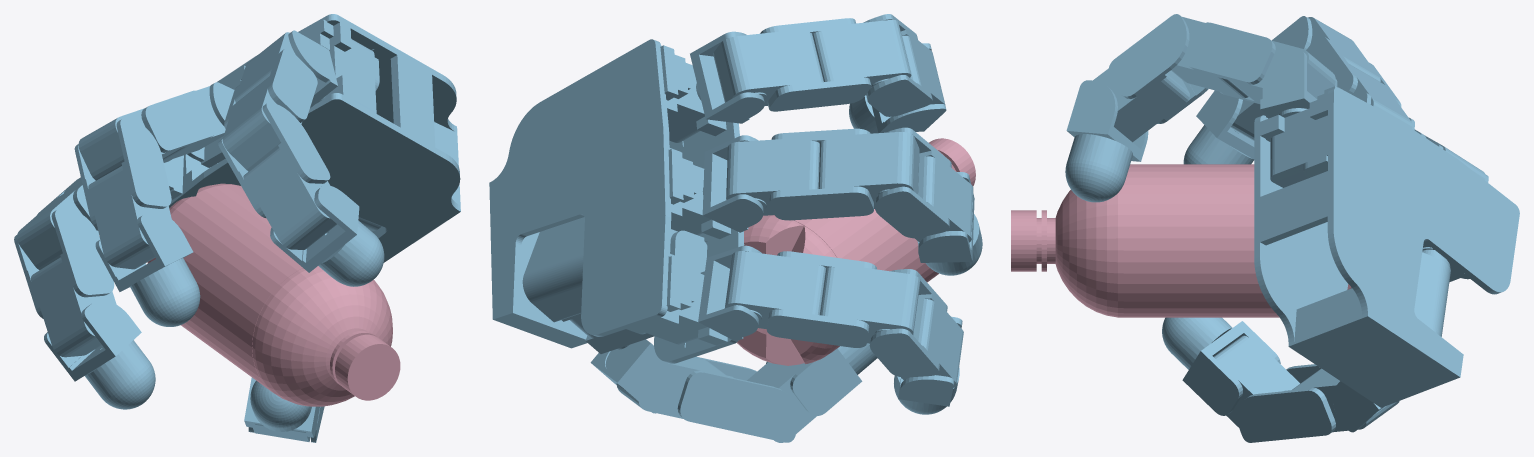
3 views of the same model, side by side, from view 1: azimuth 30°, elevation 25°; view 2: azimuth 150°, elevation 25°; view 3: azimuth 270°, elevation 25° (orthographic). The views are drawn at different scales.
Parts seen in each view (by area): view 1: world, water_bottle.stl; view 2: world, water_bottle.stl; view 3: world, water_bottle.stl.
Boxes of the visible parts, x1,y1,x2,y2 form: world: (14,14,460,442); water_bottle.stl: (147,183,400,406); world: (489,14,982,442); water_bottle.stl: (736,138,975,365); world: (1065,14,1519,442); water_bottle.stl: (1011,164,1351,317).
Bounding box in the file's own units: 0.195 × 0.1707 × 0.1997.
